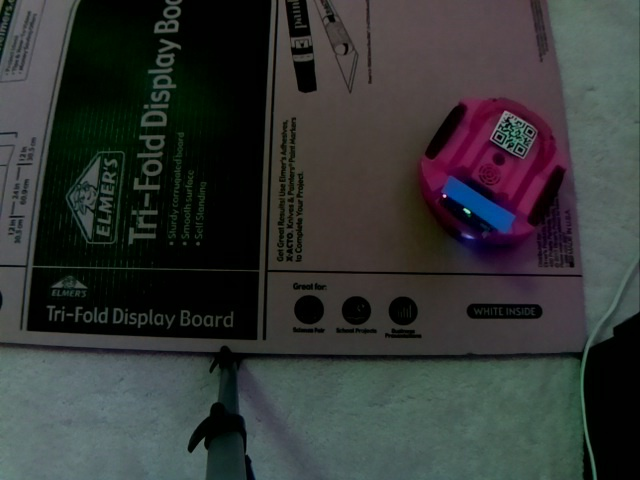chassis: (414, 92, 576, 250)
qr: (487, 108, 539, 162)
